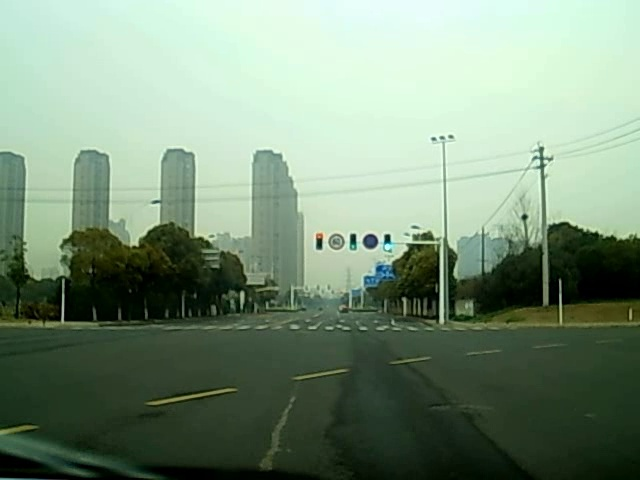Traffic_Light_go: (384, 234, 392, 253), (351, 233, 358, 250)
Traffic_Light_stop: (316, 233, 323, 249)
